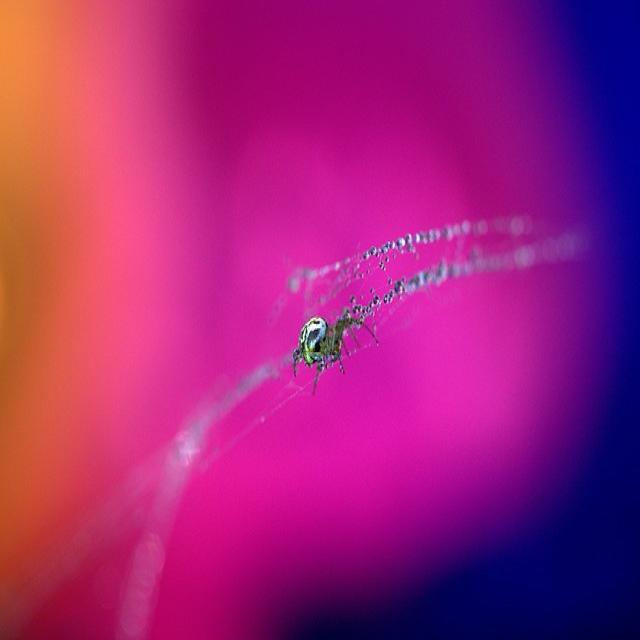spyder: (293, 306, 373, 376)
